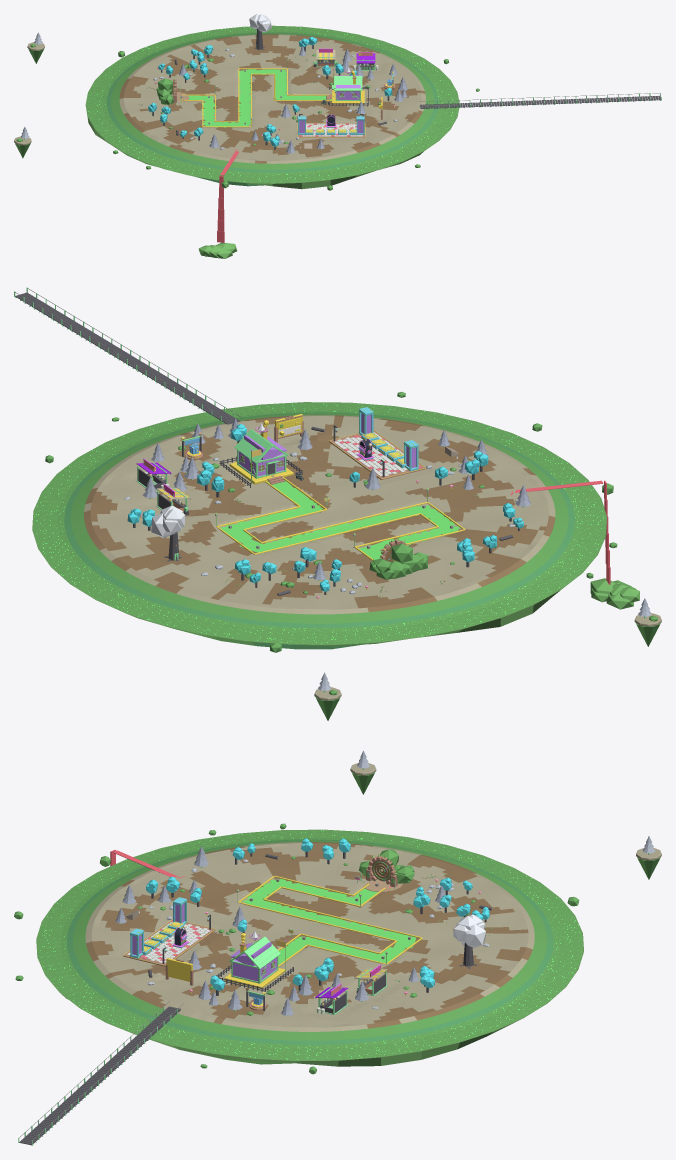
Rendered from Isla2_Bosque.obj.
3 renders of one model, top to bottom at view 1: azimuth 30°, elevation 25°; view 2: azimuth 150°, elevation 25°; view 3: azimuth 270°, elevation 25°, orthographic. The views are drawn at different scales.
Visible parts, largest first — view 1: Isla2_Bosque_Terreno, Isla2_Bosque_Base_Flotante, Isla2_Bosque_Casa, Isla2_Bosque_Palanca_Zona, Isla2_Bosque_Detalles_11, Isla2_Bosque_Portal, Puente_2_10, Isla2_Bosque_Monumento, Isla2_Bosque_Detalles_10, Isla2_Bosque_Tienda_Puesto; view 2: Isla2_Bosque_Terreno, Isla2_Bosque_Base_Flotante, Isla2_Bosque_Casa, Isla2_Bosque_Palanca_Zona, Isla2_Bosque_Portal, Isla2_Bosque_Detalles_11, Isla2_Bosque_Monumento, Puente_2_10, Isla2_Bosque_Detalles_10, Isla2_Bosque_Detalles_17, Isla2_Bosque_Detalles_18, Isla2_Bosque_Equipamientos_Puesto; view 3: Isla2_Bosque_Terreno, Isla2_Bosque_Base_Flotante, Isla2_Bosque_Casa, Isla2_Bosque_Palanca_Zona, Isla2_Bosque_Portal, Isla2_Bosque_Monumento, Isla2_Bosque_Equipamientos_Puesto, Puente_2_10, Isla2_Bosque_Tienda_Puesto, Isla2_Bosque_Detalles_18, Isla2_Bosque_Detalles_17, Isla2_Bosque_Mejoras_Marco.
Boxes of the visible parts, bbox=[...] form: Isla2_Bosque_Terreno: bbox=[86, 26, 458, 183]; Isla2_Bosque_Base_Flotante: bbox=[85, 25, 459, 189]; Isla2_Bosque_Casa: bbox=[326, 67, 368, 106]; Isla2_Bosque_Palanca_Zona: bbox=[297, 114, 365, 137]; Isla2_Bosque_Detalles_11: bbox=[198, 220, 237, 258]; Isla2_Bosque_Portal: bbox=[156, 77, 189, 104]; Puente_2_10: bbox=[418, 93, 660, 106]; Isla2_Bosque_Monumento: bbox=[249, 14, 271, 50]; Isla2_Bosque_Detalles_10: bbox=[218, 151, 238, 220]; Isla2_Bosque_Tienda_Puesto: bbox=[313, 48, 338, 67]; Isla2_Bosque_Terreno: bbox=[33, 402, 606, 644]; Isla2_Bosque_Base_Flotante: bbox=[32, 402, 607, 649]; Isla2_Bosque_Casa: bbox=[219, 420, 302, 487]; Isla2_Bosque_Palanca_Zona: bbox=[329, 407, 425, 479]; Isla2_Bosque_Portal: bbox=[369, 537, 428, 579]; Isla2_Bosque_Detalles_11: bbox=[590, 548, 639, 609]; Isla2_Bosque_Monumento: bbox=[151, 505, 185, 561]; Puente_2_10: bbox=[15, 288, 242, 421]; Isla2_Bosque_Detalles_10: bbox=[515, 480, 608, 602]; Isla2_Bosque_Detalles_17: bbox=[314, 672, 341, 720]; Isla2_Bosque_Detalles_18: bbox=[634, 598, 661, 646]; Isla2_Bosque_Equipamientos_Puesto: bbox=[136, 458, 171, 490]; Isla2_Bosque_Terreno: bbox=[37, 830, 582, 1060]; Isla2_Bosque_Base_Flotante: bbox=[36, 829, 583, 1066]; Isla2_Bosque_Casa: bbox=[216, 931, 293, 991]; Isla2_Bosque_Palanca_Zona: bbox=[123, 897, 215, 966]; Isla2_Bosque_Portal: bbox=[358, 849, 414, 892]; Isla2_Bosque_Monumento: bbox=[453, 914, 485, 968]; Isla2_Bosque_Equipamientos_Puesto: bbox=[315, 983, 348, 1014]; Puente_2_10: bbox=[19, 1001, 183, 1140]; Isla2_Bosque_Tienda_Puesto: bbox=[354, 964, 387, 995]; Isla2_Bosque_Detalles_18: bbox=[350, 750, 376, 794]; Isla2_Bosque_Detalles_17: bbox=[636, 836, 661, 879]; Isla2_Bosque_Mejoras_Marco: bbox=[165, 958, 193, 985].
Bounding box in the file's own units: 231 × 46.64 × 166.
Materials: 1 (1 with a texture image).
